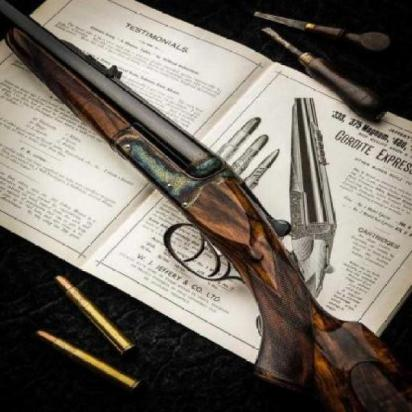Gun: (0, 2, 400, 398)
